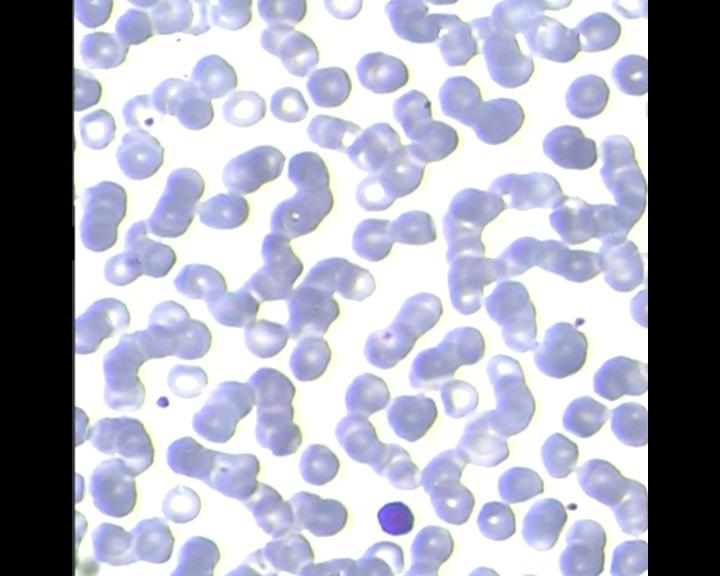lymp: (373, 498, 419, 541)
